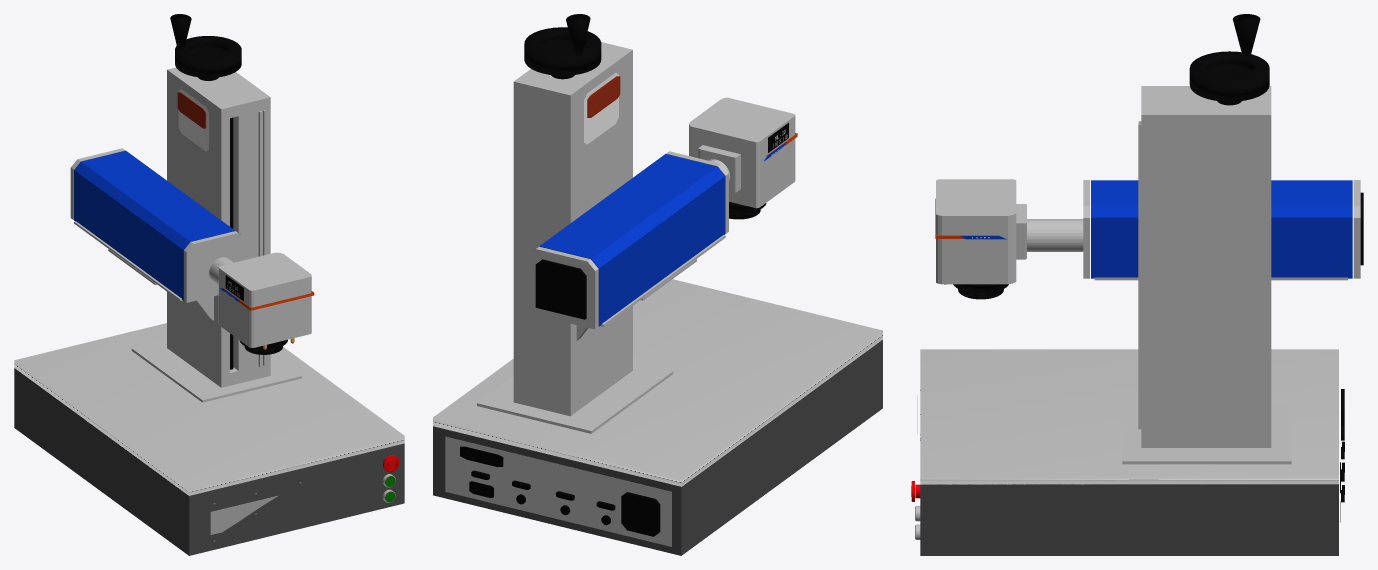
The model's file is K-Sign.glb.
The picture shows the model from 3 angles, left to right: view 1: azimuth 30°, elevation 25°; view 2: azimuth 150°, elevation 25°; view 3: azimuth 270°, elevation 25°; orthographic projection. The views are drawn at different scales.
Visible parts, largest first — view 1: Cube003, Cube001, Cube018, Cube005, Cube004, Cube002, Cube009, Cylinder004, Cube012, Cube032, Cube033, Cube011 (+2 smaller); view 2: Cube003, Cube018, Cube001, Cube005, Cube024, Cube004, Cube002, Cylinder004, Cube023, Cube016, Cube025, Cube032 (+5 smaller); view 3: Cube018, Cube003, Cube001, Cube005, Cube004, Cube002, Cylinder004, Cylinder001, Cone001, Cube016, Cube009, Cube019.
Part boxes in pixels (box(x1,y1,x2,y2)): Cube003: box(14, 323, 404, 495); Cube001: box(14, 368, 404, 555); Cube018: box(167, 67, 270, 387); Cube005: box(74, 150, 240, 300); Cube004: box(218, 252, 311, 347); Cube002: box(131, 340, 301, 402); Cube009: box(184, 231, 244, 302); Cylinder004: box(175, 36, 241, 77); Cube012: box(210, 495, 278, 534); Cube032: box(178, 89, 208, 151); Cube033: box(177, 92, 206, 128); Cube011: box(230, 117, 233, 369); Cube003: box(433, 279, 882, 486); Cube018: box(513, 42, 632, 416); Cube001: box(433, 340, 882, 555); Cube005: box(539, 154, 725, 326); Cube024: box(445, 436, 671, 546); Cube004: box(689, 97, 795, 208); Cube002: box(477, 361, 673, 433); Cylinder004: box(524, 27, 601, 75); Cube023: box(535, 259, 586, 319); Cube016: box(528, 246, 598, 329); Cube025: box(621, 492, 660, 536); Cube032: box(584, 72, 618, 144); Cube018: box(1138, 86, 1271, 447); Cube003: box(920, 349, 1338, 484); Cube001: box(920, 484, 1338, 555); Cube005: box(1091, 180, 1352, 278); Cube004: box(936, 179, 1016, 284); Cube002: box(1122, 403, 1291, 464); Cylinder004: box(1189, 51, 1269, 101); Cylinder001: box(1027, 219, 1083, 251); Cone001: box(1232, 14, 1260, 55); Cube016: box(1353, 180, 1360, 278); Cube009: box(1083, 180, 1089, 278); Cube019: box(1016, 204, 1026, 259).
Bounding box in the file's own units: 0.9067 × 1.63 × 1.38.
